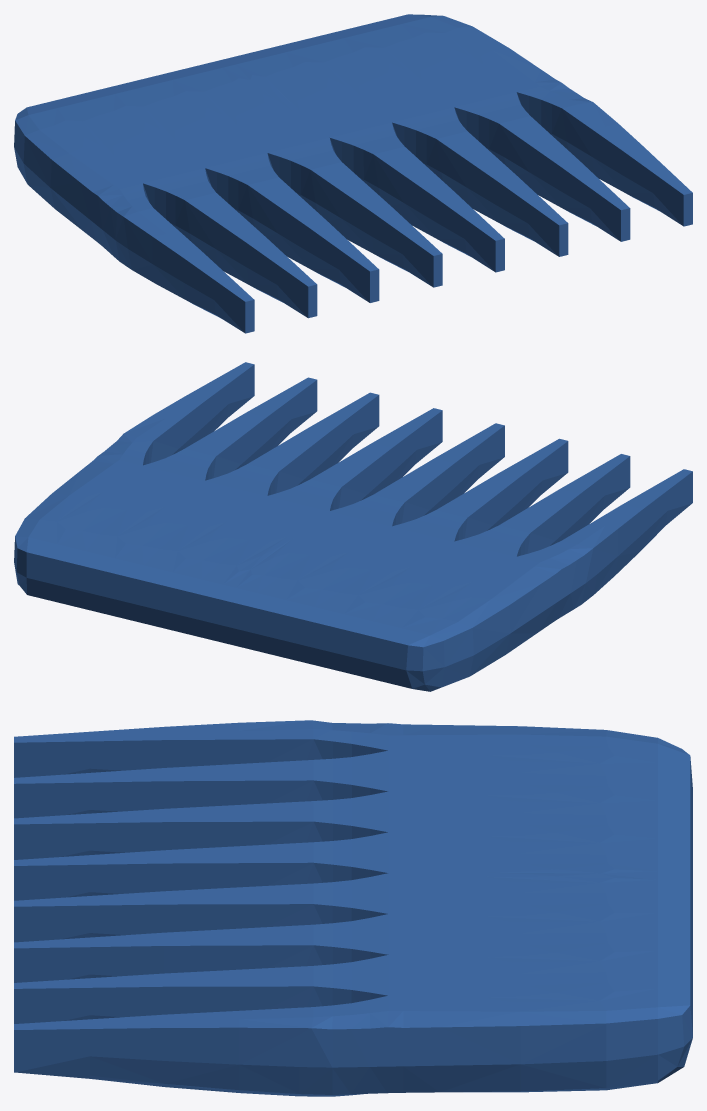
File: sweethome3d-scopia-comb-106.glb
3 views of the same model, one above another, from view 1: azimuth 30°, elevation 25°; view 2: azimuth 150°, elevation 25°; view 3: azimuth 270°, elevation 25° (orthographic). The views are drawn at different scales.
Visible parts, largest first — view 1: 1_1; view 2: 1_1; view 3: 1_1.
Part boxes in pixels (<box>): 1_1: <box>14,14,692,333</box>; 1_1: <box>14,362,692,691</box>; 1_1: <box>14,720,692,1096</box>.
Size of the model in its own units: 6.6 by 0.8051 by 6.14.
